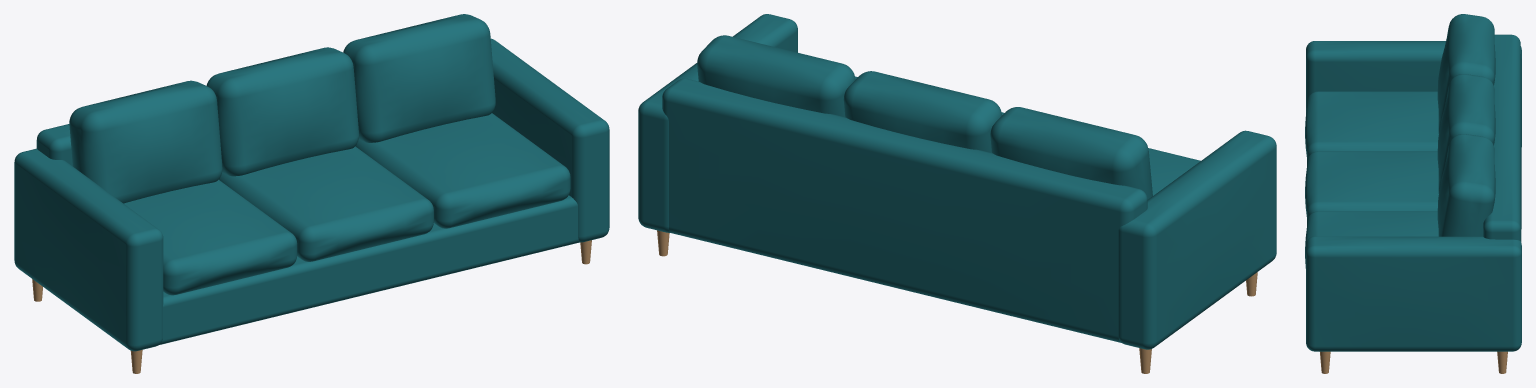
The model's file is sofa3.glb.
The picture shows the model from 3 angles, left to right: view 1: azimuth 30°, elevation 25°; view 2: azimuth 150°, elevation 25°; view 3: azimuth 270°, elevation 25°; orthographic projection. The views are drawn at different scales.
Visible parts, largest first — view 1: sofa3_fabric_soft, sofa3_fabric, sofa3_wood; view 2: sofa3_fabric, sofa3_fabric_soft, sofa3_wood; view 3: sofa3_fabric, sofa3_fabric_soft, sofa3_wood.
Boxes of the visible parts, box(x1,y1,x2,y2) form: sofa3_fabric_soft: box(69, 14, 570, 295); sofa3_fabric: box(14, 38, 609, 351); sofa3_wood: box(32, 240, 591, 373); sofa3_fabric: box(638, 14, 1276, 349); sofa3_fabric_soft: box(697, 35, 1200, 199); sofa3_wood: box(657, 230, 1257, 373); sofa3_fabric: box(1306, 34, 1521, 351); sofa3_fabric_soft: box(1305, 14, 1495, 268); sofa3_wood: box(1320, 351, 1507, 373).
Size of the model in its own units: 2.2 by 0.85 by 0.95.
